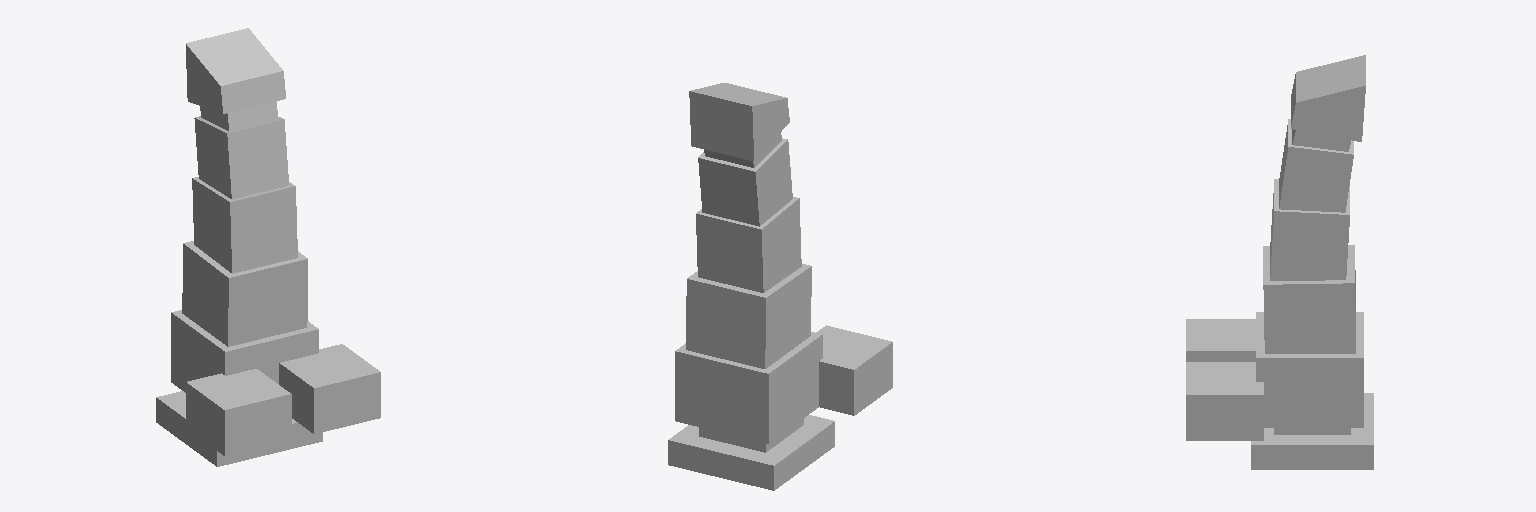
Rendered from mrbigone.obj.
The picture shows the model from 3 angles: view 1: azimuth 30°, elevation 25°; view 2: azimuth 150°, elevation 25°; view 3: azimuth 270°, elevation 25°; orthographic projection.
Visible parts, largest first — view 1: pCube33; view 2: pCube33; view 3: pCube33.
Boxes of the visible parts, <box> form: pCube33: <box>156,28,380,466</box>; pCube33: <box>668,83,892,490</box>; pCube33: <box>1186,55,1373,469</box>.
Size of the model in its own units: 0.485 by 1.11 by 0.5029.